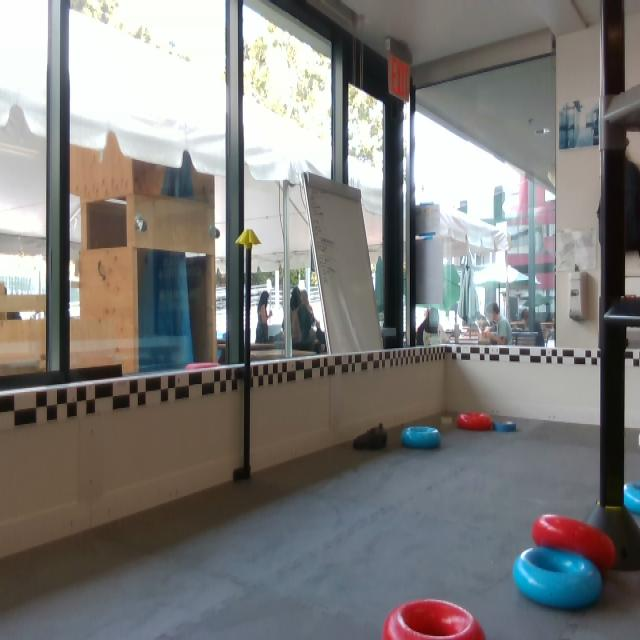Blue-Ring: (512, 545, 604, 612), (401, 424, 442, 451), (620, 483, 639, 524), (495, 420, 520, 435)
Red-Ring: (532, 515, 616, 569), (380, 599, 488, 639), (456, 413, 492, 431)
Yellow-Stake-Head: (235, 229, 261, 246)
